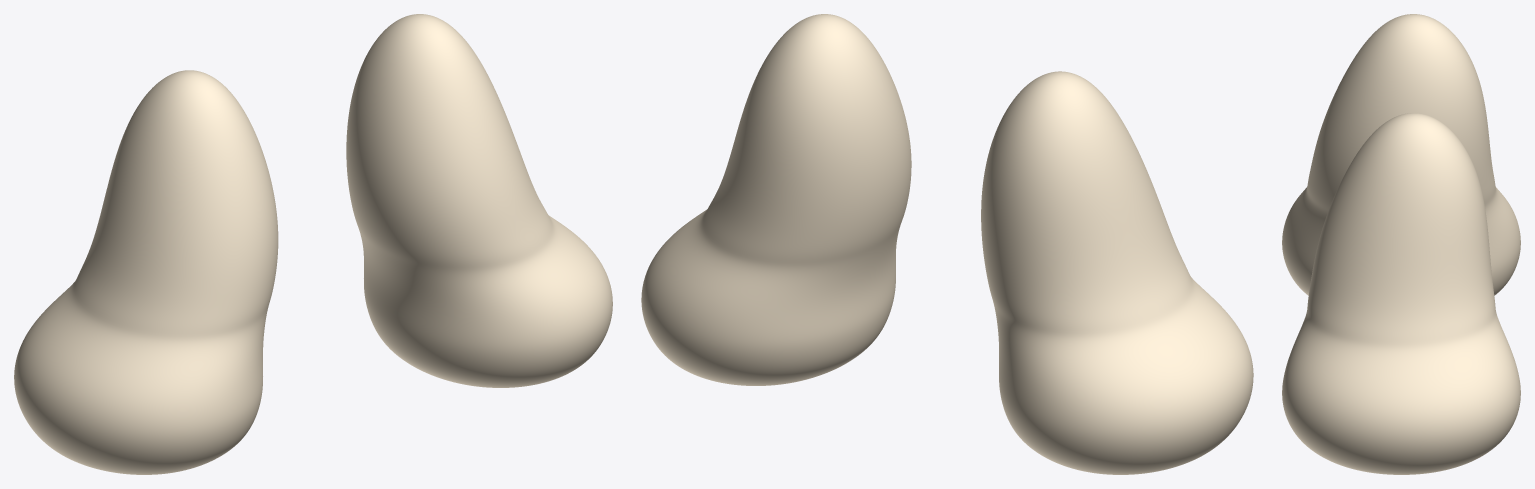
File: legs.glb
The picture shows the model from 3 angles, left to right: view 1: azimuth 30°, elevation 25°; view 2: azimuth 150°, elevation 25°; view 3: azimuth 270°, elevation 25°; orthographic projection. The views are drawn at different scales.
Visible parts, largest first — view 1: Leg_L, Leg_R; view 2: Leg_L, Leg_R; view 3: Leg_R, Leg_L.
Boxes of the visible parts, <box> form: Leg_L: <box>14,70,278,474</box>; Leg_R: <box>346,14,612,387</box>; Leg_L: <box>981,71,1253,474</box>; Leg_R: <box>641,14,911,385</box>; Leg_R: <box>1282,113,1520,474</box>; Leg_L: <box>1282,14,1520,295</box>.
Size of the model in its own units: 54.7 by 33.02 by 23.
